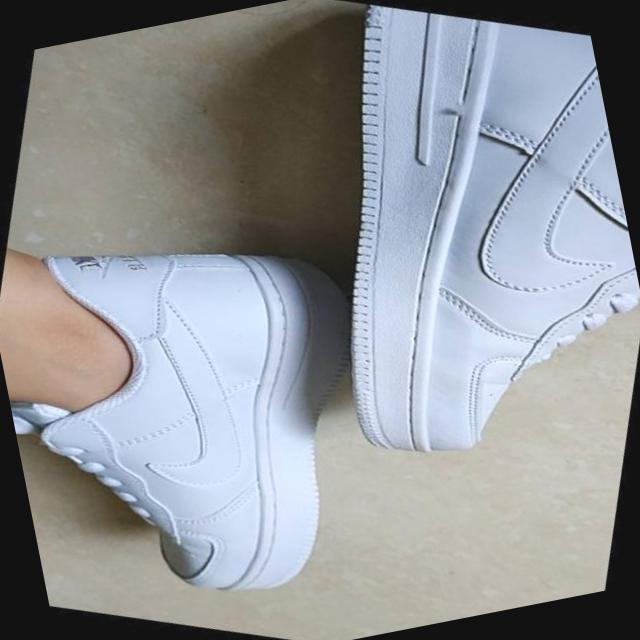nike_fake_airforce: (226, 0, 640, 543), (0, 161, 432, 640)
